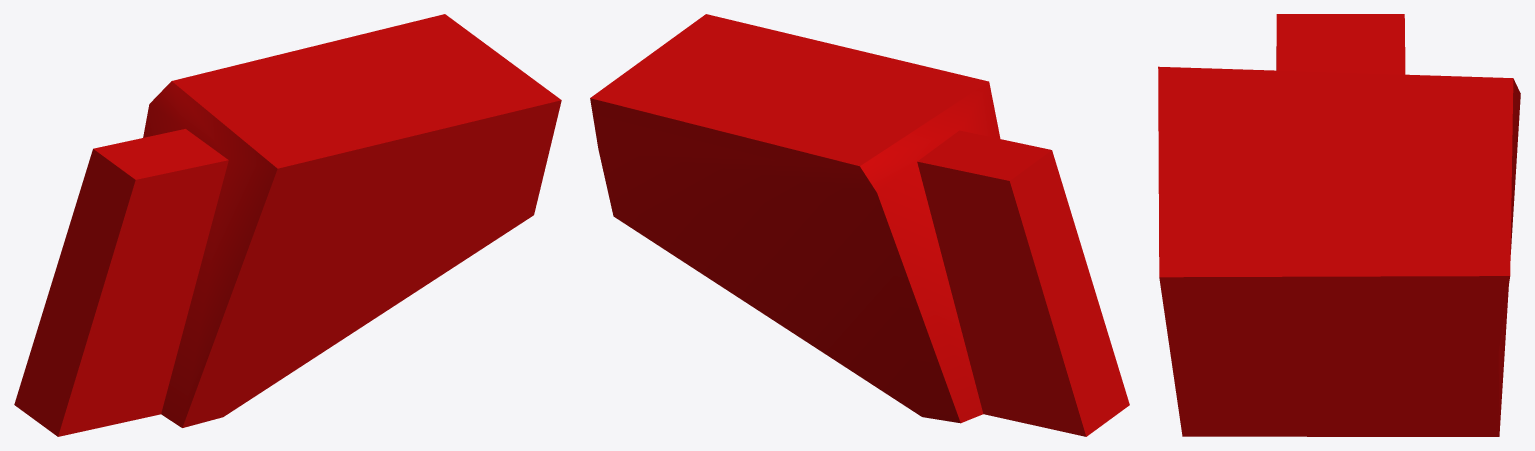
File: right_gripper_5_collision.dae
The picture shows the model from 3 angles, left to right: view 1: azimuth 30°, elevation 25°; view 2: azimuth 150°, elevation 25°; view 3: azimuth 270°, elevation 25°; orthographic projection. The views are drawn at different scales.
Visible parts, largest first — view 1: right_gripper_5_collision; view 2: right_gripper_5_collision; view 3: right_gripper_5_collision.
Part boxes in pixels (x1,y1,x2,y2): right_gripper_5_collision: (14, 14, 561, 436); right_gripper_5_collision: (590, 14, 1129, 436); right_gripper_5_collision: (1158, 14, 1520, 436).
Size of the model in its own units: 0.049 by 0.0257 by 0.022.
